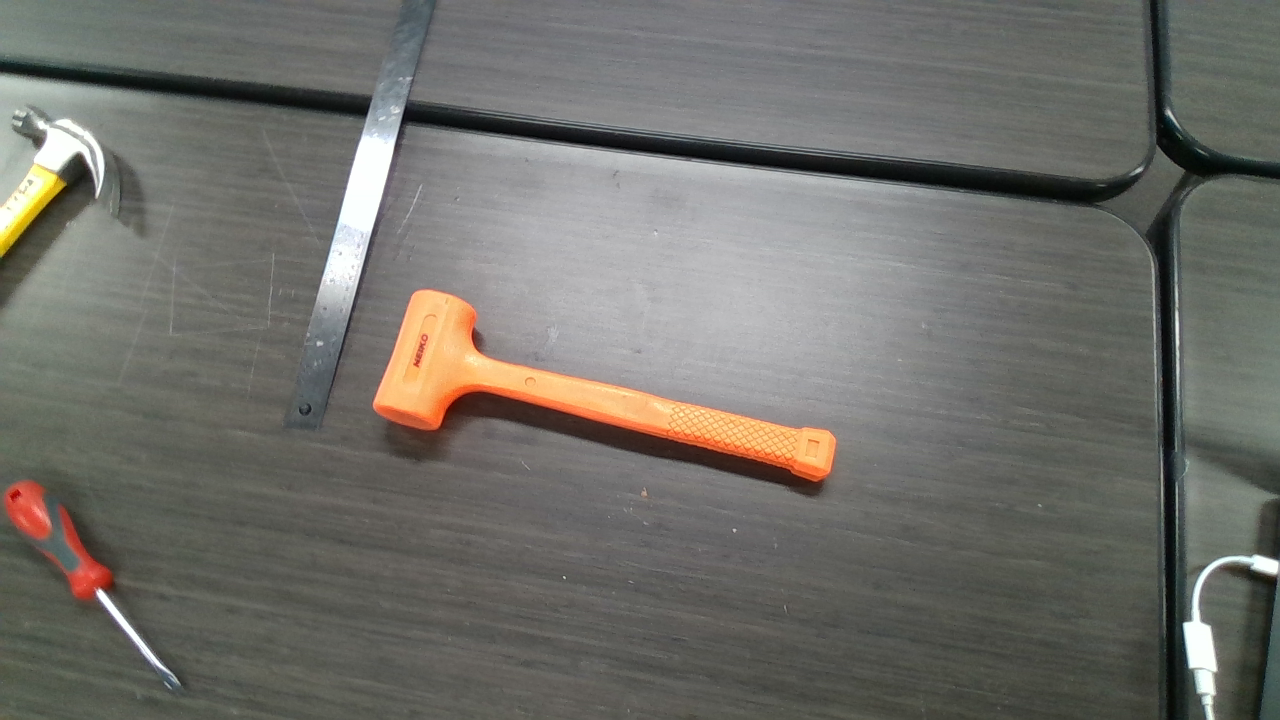Orange Hammer: (378, 288, 836, 483)
